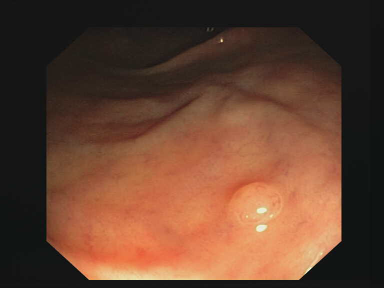polyp: (215, 171, 306, 242)
